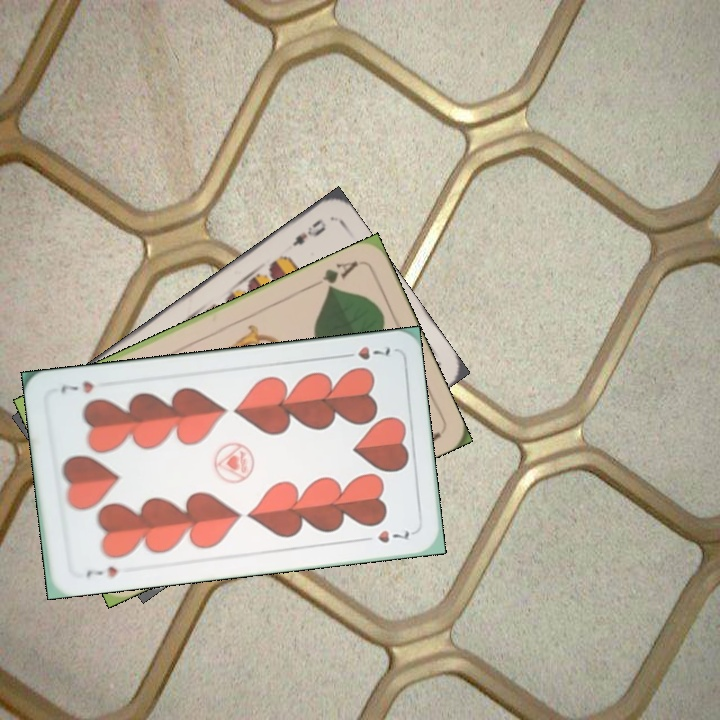E9: (288, 215, 329, 249)
GA: (307, 256, 361, 293)
H7: (336, 342, 393, 363), (82, 562, 120, 580)
